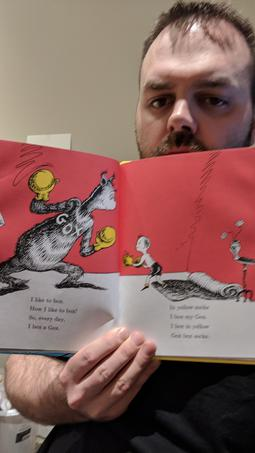text block: (21, 291, 85, 336), (160, 297, 218, 343)
